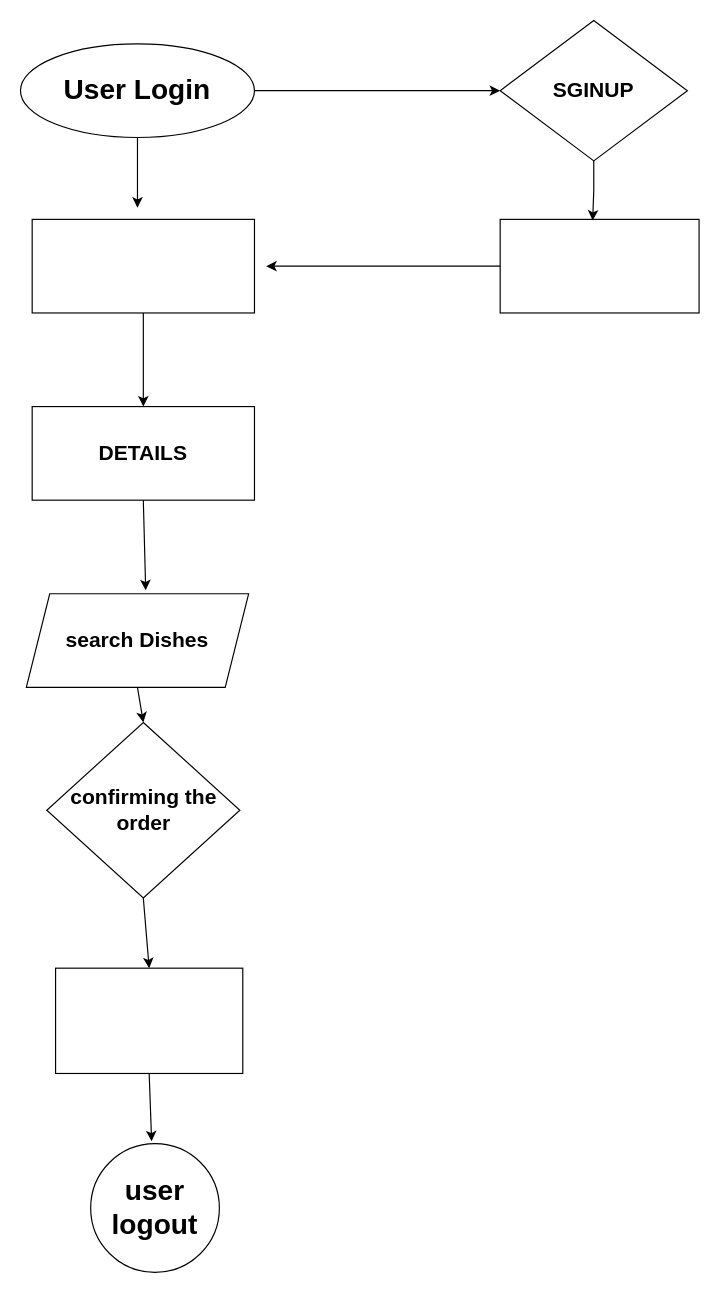
This 720x1293 diagram has some shape labels left out. The centre of each missing label's shape, as x and y in pixels:
Home: pixel 142 265
Information: pixel 599 265
Your order is confirmed: pixel 148 1020
